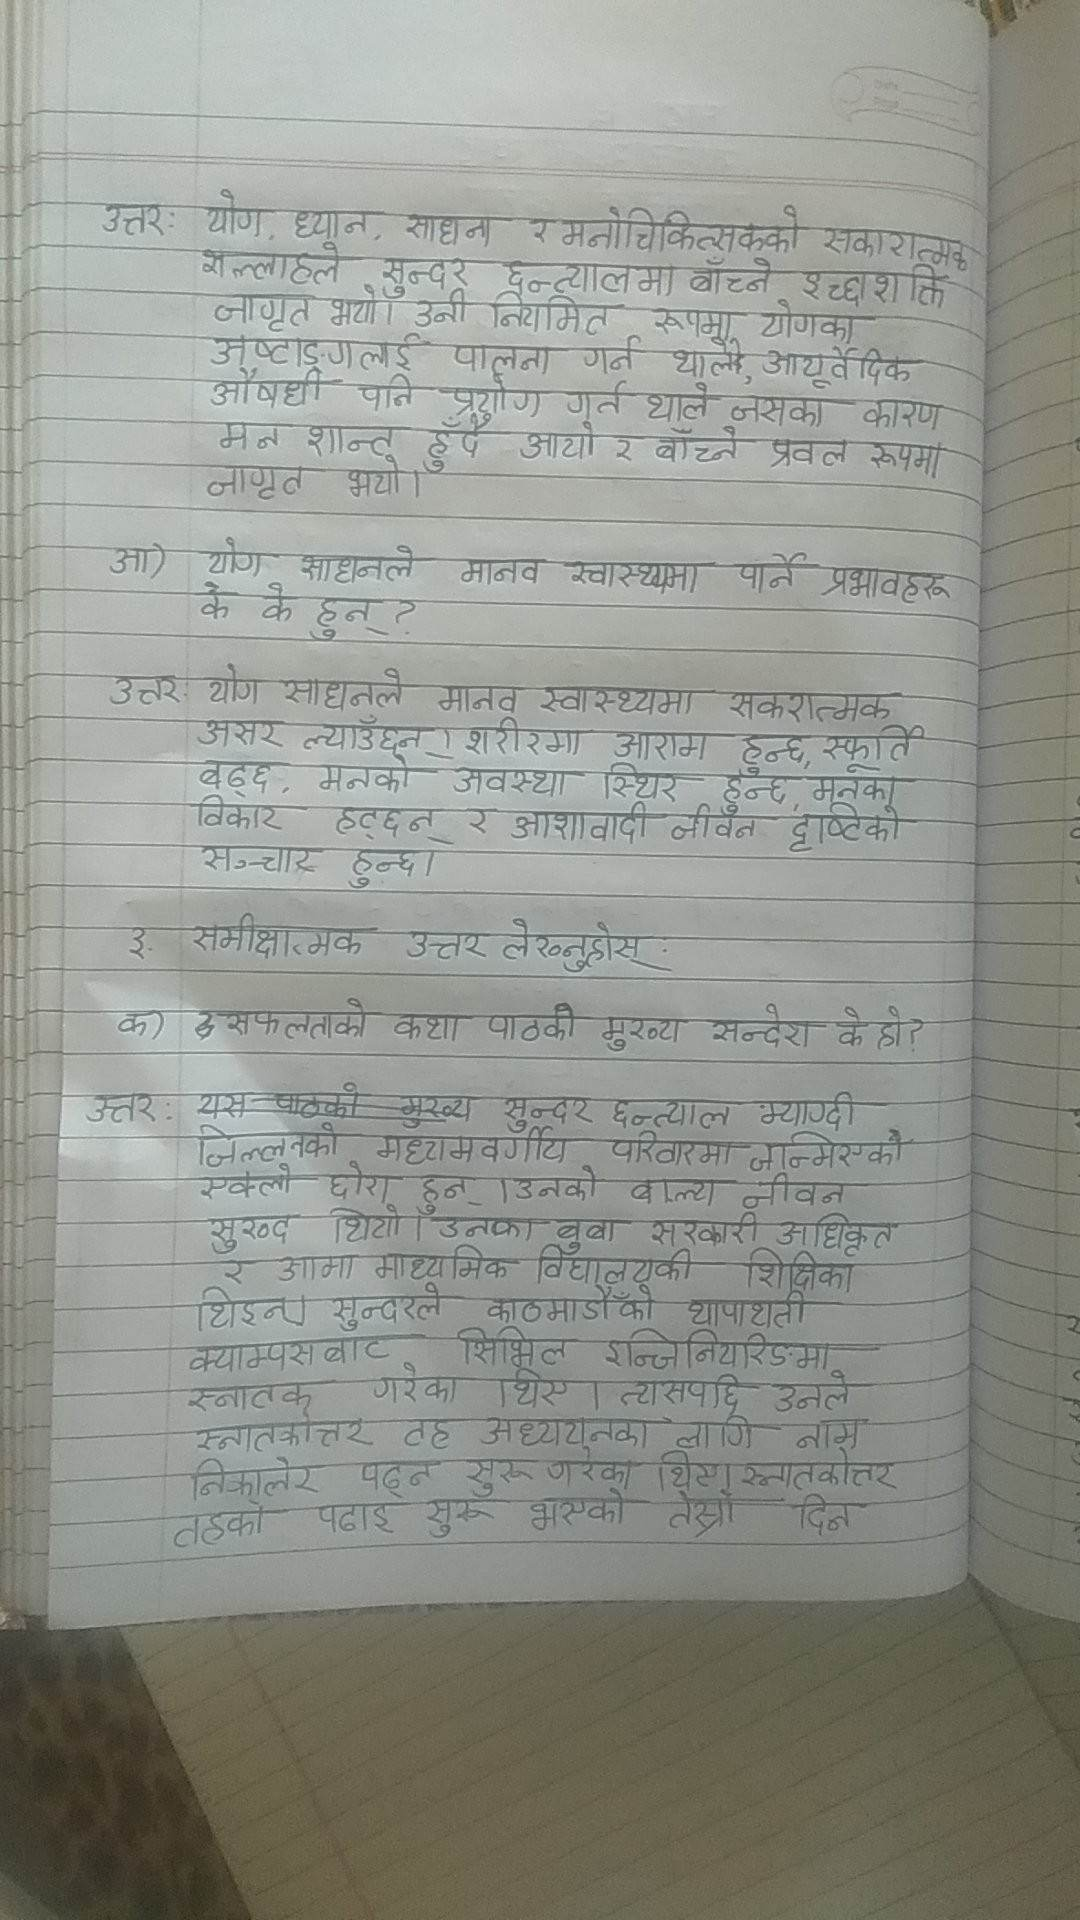text: (560, 204, 804, 256), (603, 1328, 828, 1373), (500, 919, 669, 976), (193, 909, 371, 960), (208, 332, 415, 373), (191, 1408, 372, 1455), (373, 1127, 575, 1168), (483, 1280, 657, 1325), (185, 1335, 393, 1371), (761, 342, 913, 392), (738, 1447, 899, 1493), (746, 1127, 909, 1172), (193, 1120, 345, 1167), (533, 1244, 698, 1287), (476, 1408, 657, 1448), (500, 256, 673, 297), (795, 264, 947, 309), (220, 1000, 372, 1044), (727, 684, 897, 724), (200, 240, 342, 287), (508, 800, 647, 845), (539, 680, 698, 720), (618, 1369, 752, 1415), (488, 289, 609, 339), (564, 553, 699, 597), (187, 1456, 320, 1501), (787, 803, 905, 853), (820, 224, 968, 264), (824, 563, 951, 609), (371, 1244, 517, 1283), (284, 665, 407, 711), (775, 1209, 899, 1255), (327, 1284, 443, 1333), (332, 804, 454, 848), (169, 1501, 268, 1553), (819, 725, 928, 773), (704, 1004, 814, 1051), (464, 716, 583, 760), (452, 1324, 571, 1367), (744, 1247, 857, 1292), (525, 1487, 629, 1536), (295, 543, 421, 583), (644, 1207, 760, 1249), (183, 1377, 319, 1412), (451, 760, 568, 800), (680, 1291, 814, 1327), (608, 1131, 736, 1168), (378, 249, 469, 301), (299, 715, 425, 752), (200, 460, 311, 501), (741, 1171, 852, 1212), (208, 291, 315, 334), (199, 840, 320, 877), (612, 1096, 737, 1131), (541, 1445, 637, 1491), (208, 371, 328, 407), (440, 373, 545, 415), (196, 1287, 301, 1329), (753, 305, 858, 345), (425, 411, 495, 472), (484, 1001, 580, 1044), (430, 1207, 539, 1245), (757, 1091, 865, 1129), (371, 1364, 462, 1408), (725, 388, 824, 429), (316, 756, 413, 796), (667, 803, 760, 845), (864, 435, 943, 484), (500, 1092, 597, 1131), (513, 1160, 599, 1205), (669, 1485, 741, 1538), (609, 728, 711, 765), (653, 425, 744, 465), (404, 208, 497, 248), (204, 1213, 291, 1255), (771, 1369, 853, 1414), (303, 419, 396, 459), (311, 596, 388, 644), (313, 1497, 396, 1540), (765, 433, 856, 472), (451, 339, 555, 373), (193, 1164, 293, 1200), (688, 255, 775, 295), (356, 1456, 436, 1499), (520, 419, 597, 464), (599, 760, 683, 800), (415, 1168, 488, 1216), (204, 185, 266, 240), (862, 396, 945, 436), (599, 1013, 683, 1052), (628, 1174, 721, 1209), (720, 771, 796, 815), (459, 553, 551, 588), (327, 1203, 405, 1245), (733, 551, 808, 595), (651, 1444, 720, 1491), (345, 845, 419, 889), (793, 1491, 860, 1539), (407, 924, 488, 964), (436, 679, 520, 717), (651, 305, 737, 342), (196, 756, 273, 796), (392, 1007, 467, 1048), (736, 733, 808, 775), (811, 769, 897, 804), (644, 381, 711, 425), (464, 1453, 531, 1497), (291, 204, 373, 240), (675, 1418, 760, 1452), (196, 715, 284, 748), (193, 796, 280, 829), (671, 340, 741, 381), (427, 1499, 495, 1540), (204, 663, 264, 709), (277, 1251, 356, 1286), (99, 200, 169, 239), (563, 377, 626, 419), (582, 334, 641, 378), (111, 673, 183, 708), (508, 1367, 572, 1407), (413, 287, 475, 328), (204, 535, 266, 576), (324, 1164, 393, 1201), (215, 415, 281, 454), (556, 1212, 617, 1253), (328, 284, 381, 328), (357, 373, 415, 413), (795, 1416, 861, 1451), (84, 1092, 156, 1124), (345, 465, 405, 500), (400, 1414, 456, 1449), (261, 578, 297, 628), (832, 1004, 866, 1051), (873, 1009, 909, 1051), (108, 545, 156, 575), (199, 578, 232, 620), (215, 1255, 258, 1284), (116, 1007, 153, 1040), (125, 920, 152, 964), (609, 433, 637, 465), (525, 215, 553, 247), (468, 804, 498, 832)
